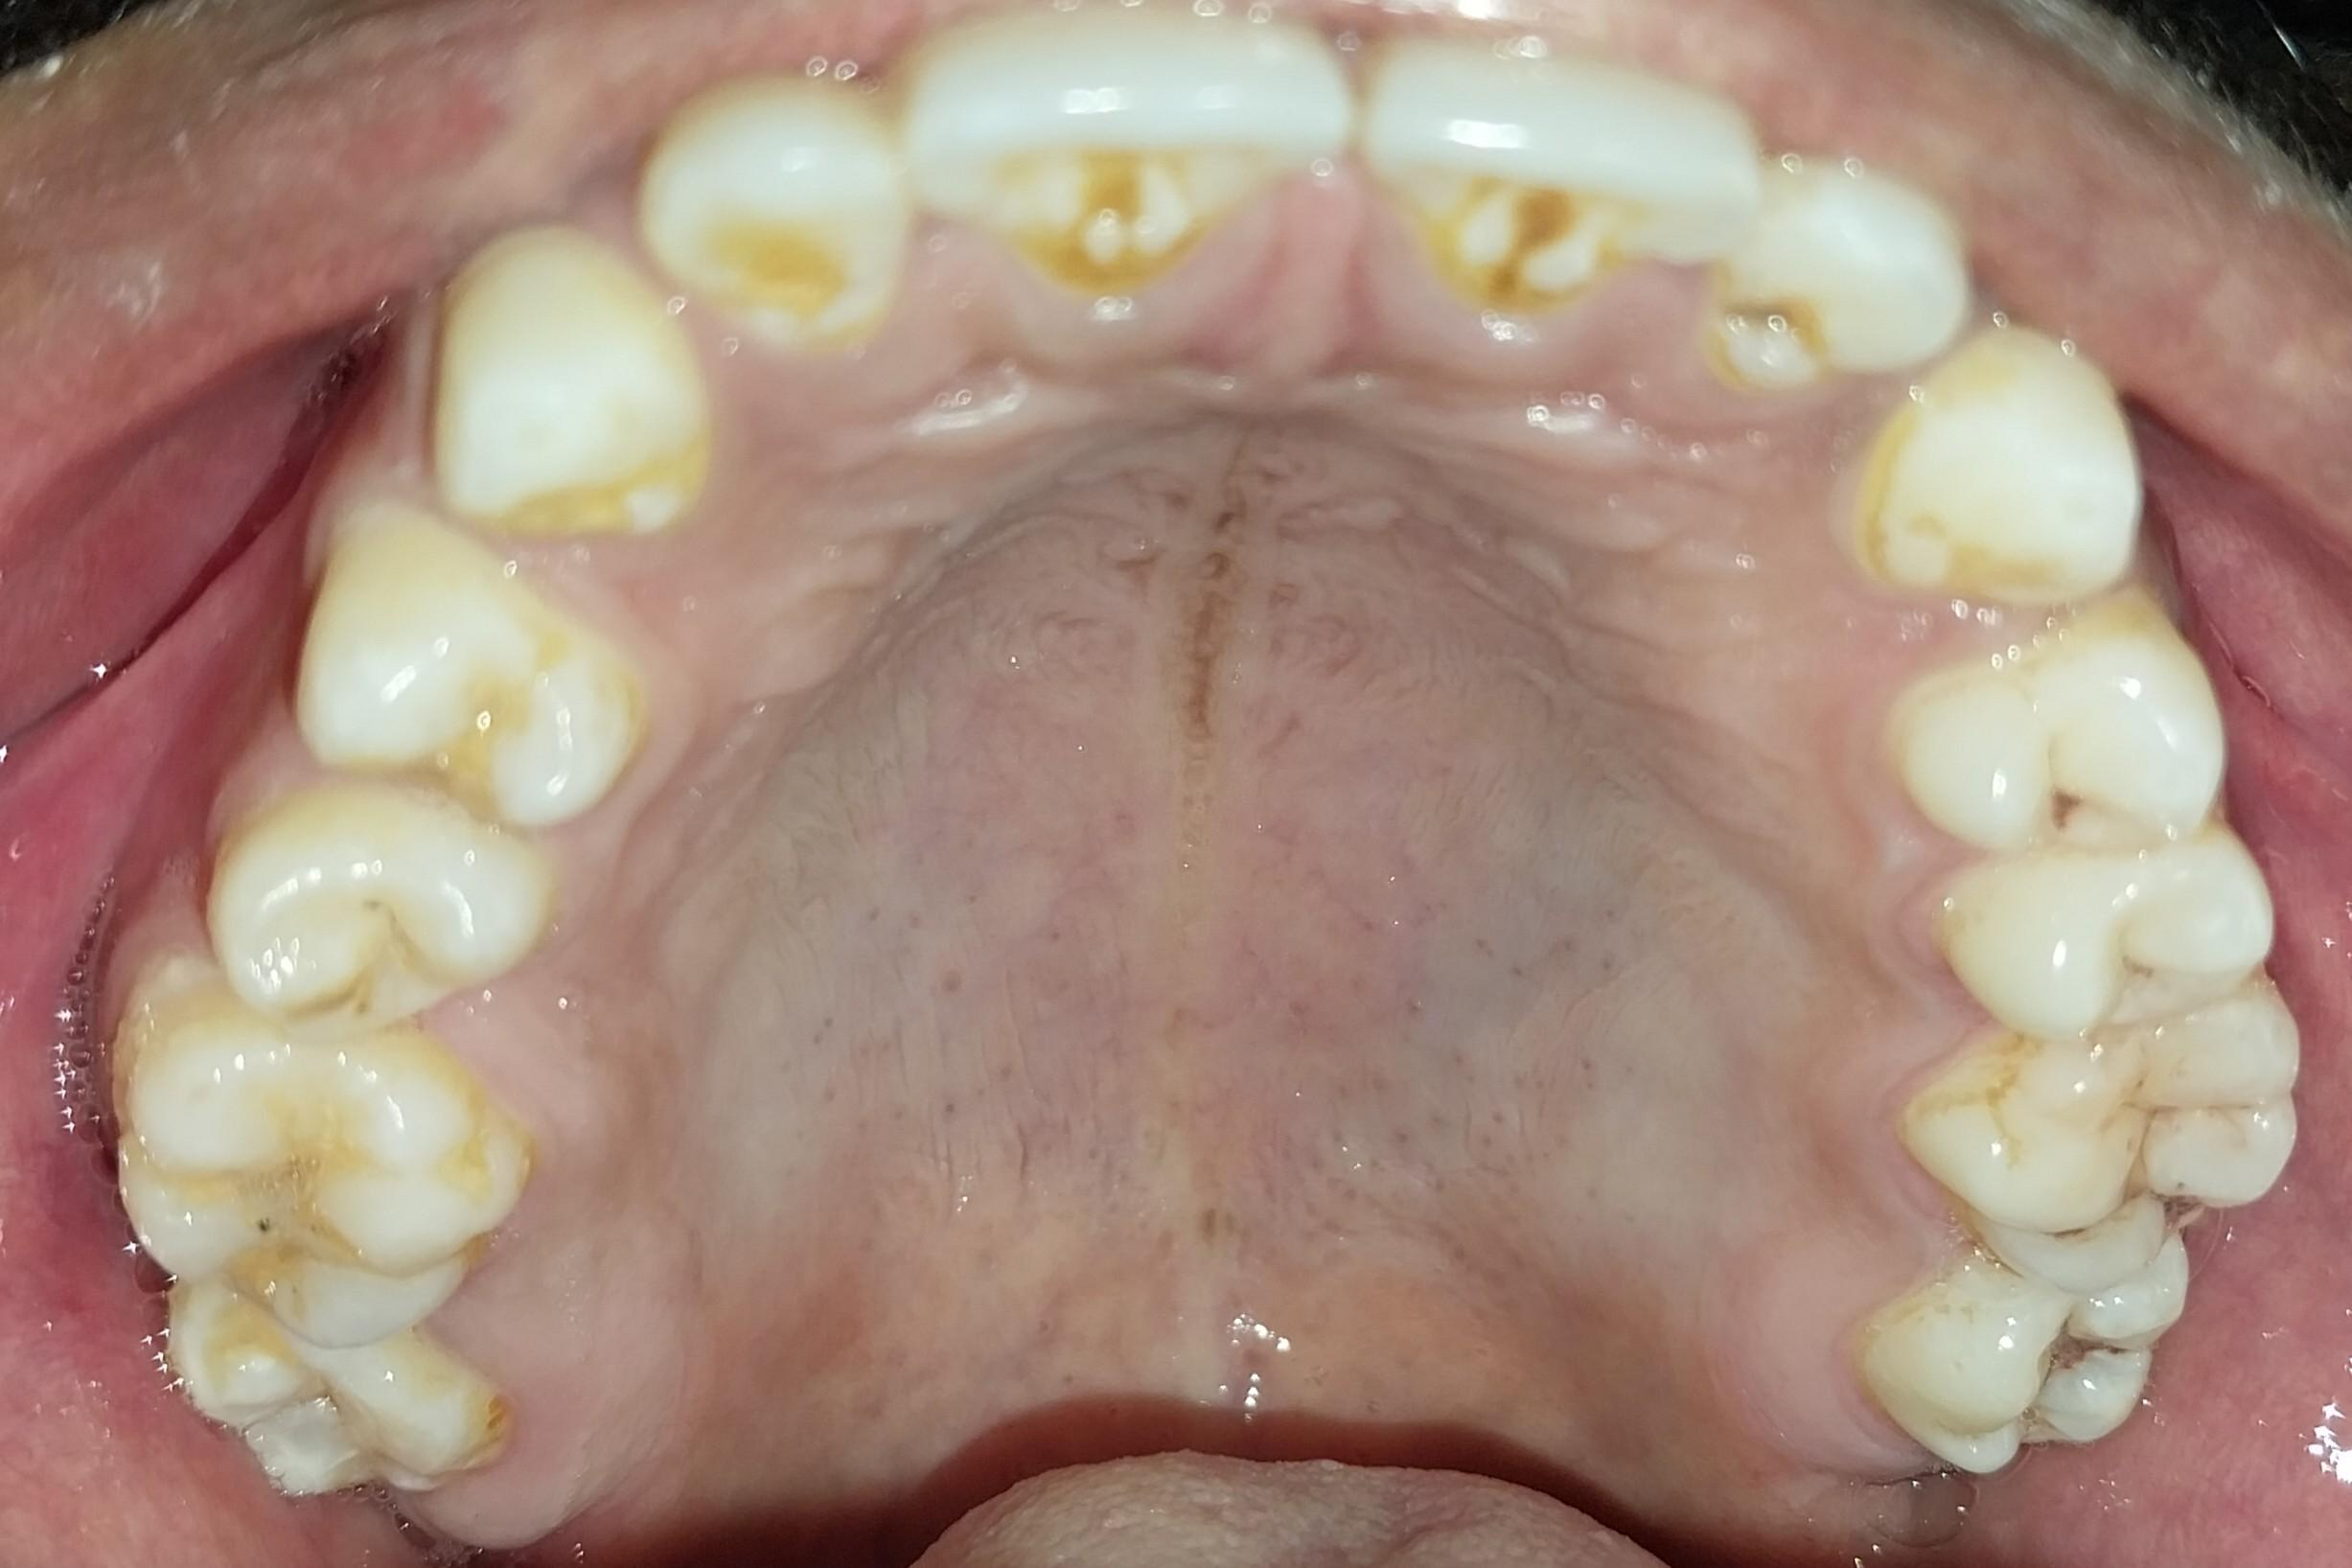D: (1900, 986, 2296, 1300), (1865, 1234, 2193, 1473), (1924, 639, 2230, 879), (1910, 850, 2286, 1039)
